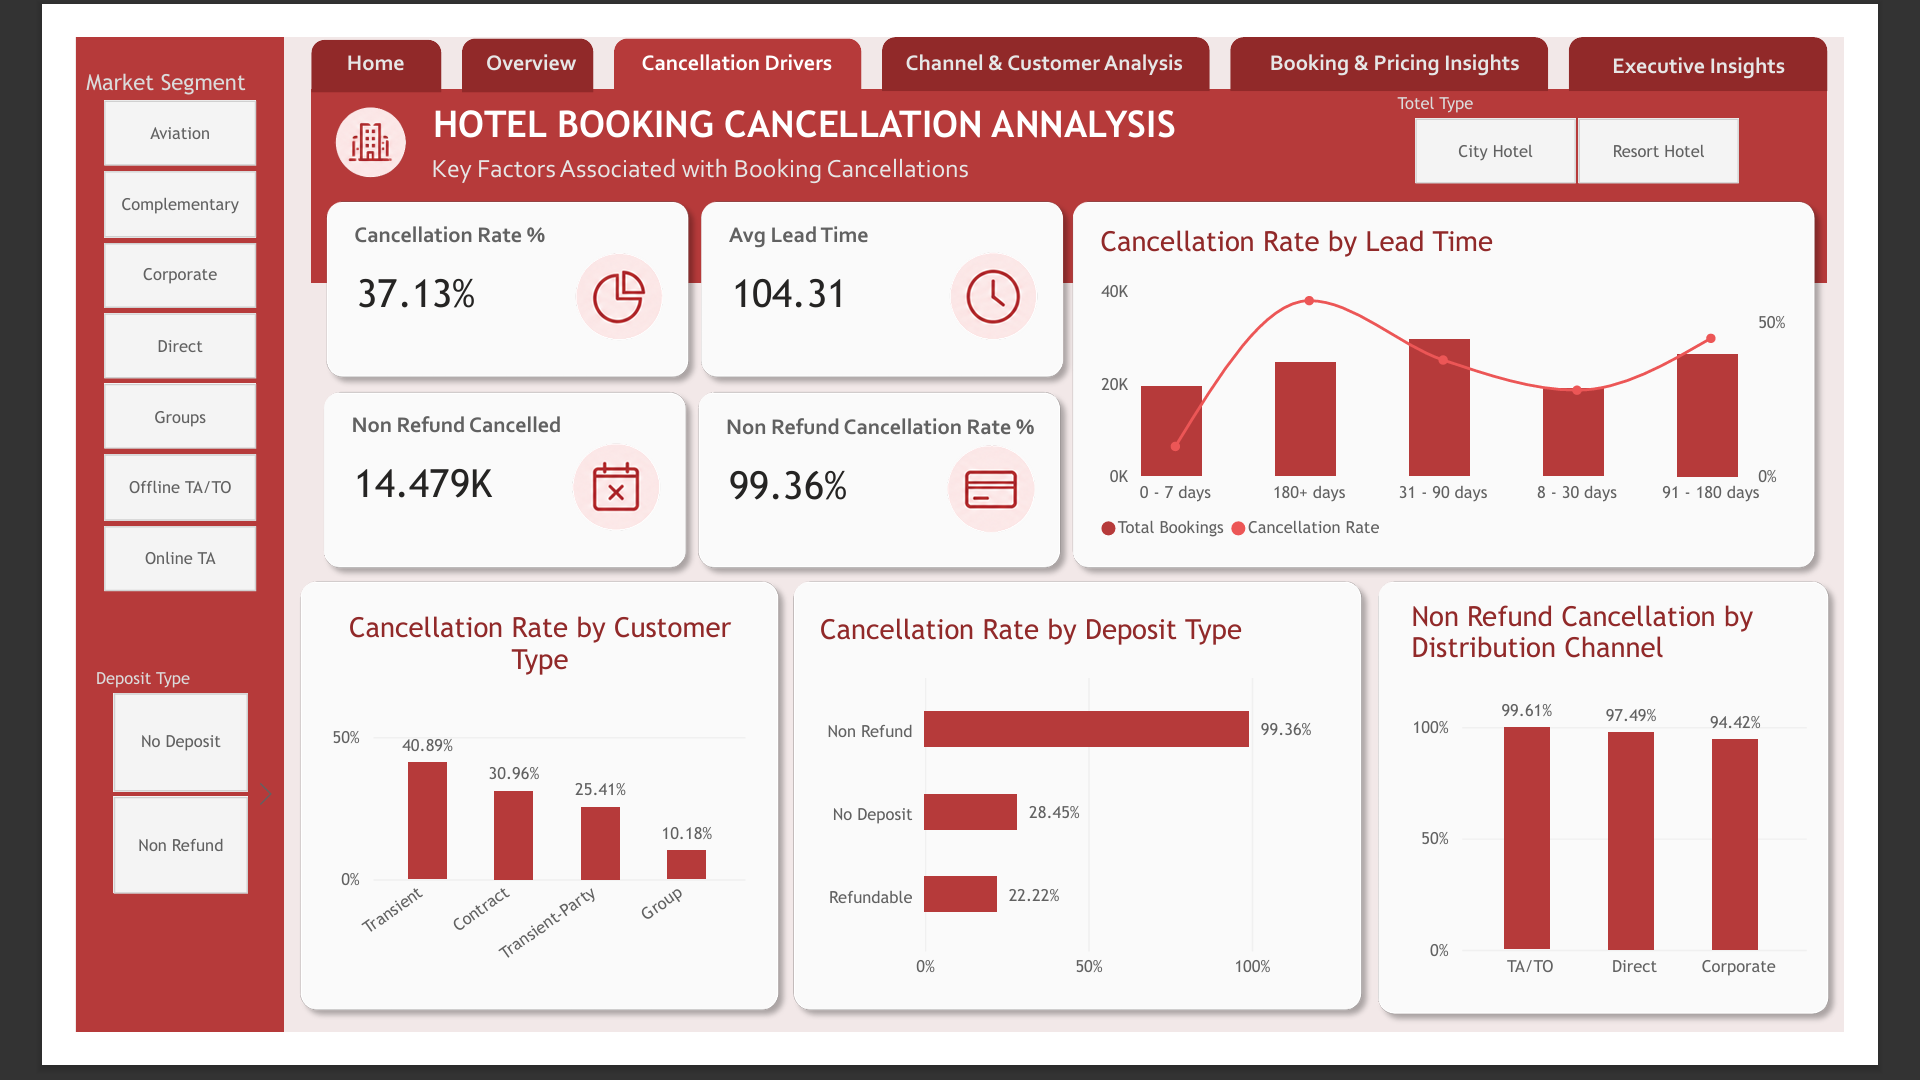

What the dashboard file says about the page in this screenshot:
{"tool":"powerbi","page":{"name":"Cancellation Drivers","canvas":[1280,720],"ordinal":2},"visuals":[{"type":"shape","box":[171.3,38.3,1096.7,140],"z":0,"group":"g4"},{"type":"textbox","box":[230.4,47.3,593.4,35.1],"z":0,"group":"g5"},{"type":"group","id":"g1","title":"Group 2","box":[154.4,385,364,328.2],"z":0},{"type":"shape","box":[390.2,0.7,178.6,39],"z":1000,"group":"g4"},{"type":"textbox","box":[257.8,83.6,529.6,25.3],"z":1000,"group":"g5"},{"type":"group","id":"g2","title":"Group 2","box":[511.1,385.2,429.3,328.2],"z":1000},{"type":"shape","box":[835.7,0,229.8,39],"z":2000,"group":"g4"},{"type":"group","id":"g3","title":"Group 2","box":[933.9,385.2,343.7,330.8],"z":2000},{"type":"shape","box":[1.2,0,150.3,720.8],"z":3000},{"type":"shape","box":[584.1,0,236.4,39],"z":3000,"group":"g4"},{"type":"shape","box":[280.2,0.6,94.8,39],"z":4000,"group":"g4"},{"type":"columnChart","title":"Non Refund Cancellation by Distribution Channel","fields":{"Category":["hotel_bookings.distribution_channel"],"Y":[" Measures.Non Refund Cancellation Rate"]},"box":[950.8,393,317.8,307.4],"z":4000},{"type":"shape","box":[1080.8,0.3,187.4,39],"z":5000,"group":"g4"},{"type":"clusteredColumnChart","title":"Cancellation Rate by Customer Type","fields":{"Y":[" Measures.Cancellation Rate"],"Category":["hotel_bookings.customer_type"]},"box":[168.6,399.5,333.4,302.2],"z":5000},{"type":"shape","box":[171.3,2.1,93.7,37.8],"z":6000,"group":"g4"},{"type":"barChart","title":"Cancellation Rate by Deposit Type","fields":{"Category":["hotel_bookings.deposit_type"],"Y":[" Measures.Cancellation Rate"]},"box":[522.7,403.4,402.1,297],"z":6000},{"type":"group","id":"g4","title":"Group 1","box":[168.9,0,1099.3,178.3],"z":7000},{"type":"group","id":"g5","title":"Group 3","box":[230.4,47.3,593.4,61.6],"z":7000,"group":"g4"},{"type":"group","id":"g6","title":"Group 5","box":[168.9,9,885.7,28],"z":8000,"group":"g4"},{"type":"slicer","fields":{"Values":["hotel_bookings.hotel"]},"box":[949.5,41,273.6,67.2],"z":8000},{"type":"textbox","box":[1105.1,10.6,139.3,25.3],"z":9000,"group":"g4"},{"type":"slicer","fields":{"Values":["hotel_bookings.market_segment"]},"box":[0,23.2,150.3,379.9],"z":9000},{"type":"group","id":"g7","title":"Group 2","box":[713.4,110,555.2,282.8],"z":10000},{"type":"lineClusteredColumnComboChart","title":"Cancellation Rate by Lead Time","fields":{"Category":["hotel_bookings.lead_time_groups"],"Y":[" Measures.Total Bookings"],"Y2":[" Measures.Cancellation Rate"]},"box":[726.4,121.9,527.9,263.3],"z":11000},{"type":"slicer","fields":{"Values":["hotel_bookings.deposit_type"]},"box":[7.3,456.9,136.8,164.9],"z":12000},{"type":"shape","box":[933.9,385.2,343.7,330.8],"z":12500,"group":"g3"},{"type":"group","id":"g8","title":"Group 2","box":[172.5,110,279.9,144.8],"z":13000},{"type":"group","id":"g9","title":"Group 2","box":[444,110,279.9,144.8],"z":14000},{"type":"shape","box":[154.4,385,364,328.2],"z":14000,"group":"g1"},{"type":"shape","box":[713.4,110,555.2,282.8],"z":14500,"group":"g7"},{"type":"shape","box":[172.5,110,279.9,144.8],"z":15000,"group":"g8"},{"type":"shape","box":[444,110,279.9,144.8],"z":15000,"group":"g9"},{"type":"group","id":"g10","title":"Group 2","box":[171.3,248,279.9,144.8],"z":15000},{"type":"shape","box":[171.3,248,279.9,144.8],"z":15000,"group":"g10"},{"type":"shape","box":[442.3,248,279.9,144.8],"z":15000,"group":"g11"},{"type":"shape","box":[511.1,385.2,429.3,328.2],"z":15000,"group":"g2"},{"type":"cardVisual","title":"Total Bookings","fields":{"Data":[" Measures.Cancellation Rate"]},"box":[187.9,152.2,253.4,65.1],"z":16000,"group":"g8"},{"type":"cardVisual","title":"Total Bookings","fields":{"Data":[" Measures.Avg Lead Time"]},"box":[459.4,152.2,253.4,65.1],"z":16000,"group":"g9"},{"type":"group","id":"g11","title":"Group 2","box":[442.3,248,279.9,144.8],"z":16000},{"type":"cardVisual","title":"Total Bookings","fields":{"Data":[" Measures.Non Refund Cancelled"]},"box":[186.7,290.2,253.4,65.1],"z":16000,"group":"g10"},{"type":"cardVisual","title":"Total Bookings","fields":{"Data":[" Measures.Non Refund Cancellation Rate"]},"box":[457.7,291.3,253.4,65.1],"z":16000,"group":"g11"},{"type":"image","box":[188.2,44.6,51.9,61.5],"z":16001},{"type":"textbox","box":[201.5,132.9,228,20.5],"z":17000,"group":"g8"},{"type":"textbox","box":[473,132.9,228,20.5],"z":17000,"group":"g9"},{"type":"textbox","box":[200.3,270.9,228,20.5],"z":17000,"group":"g10"},{"type":"textbox","box":[471.3,272,228,20.5],"z":17000,"group":"g11"},{"type":"image","box":[359.7,155.1,66.4,65],"z":18000,"group":"g8"},{"type":"image","box":[631.2,155.1,66.4,65],"z":18000,"group":"g9"},{"type":"image","box":[358.5,293.1,66.4,65],"z":18000,"group":"g10"},{"type":"image","box":[629.5,294.2,66.4,65],"z":18000,"group":"g11"},{"type":"textbox","box":[168.9,9.1,96.9,27.8],"z":19000,"group":"g6"},{"type":"textbox","box":[282.2,9.1,95.9,26.7],"z":20000,"group":"g6"},{"type":"textbox","box":[394.5,9.1,168.8,27.8],"z":21000,"group":"g6"},{"type":"textbox","box":[591.7,9,222.2,25.6],"z":22000,"group":"g6"},{"type":"textbox","box":[855.3,9,199.3,23.4],"z":23000,"group":"g6"}]}

Visuals, with their boxes in screenshot pixels (x1, y1, x2, y2), scaled from the page's 1280x720 canvas onto the 1920x1080 screenshot:
shape: [x1=257, y1=57, x2=1902, y2=267]
textbox: [x1=346, y1=71, x2=1236, y2=124]
"Group 2" group: [x1=232, y1=578, x2=778, y2=1070]
shape: [x1=585, y1=1, x2=853, y2=60]
textbox: [x1=387, y1=125, x2=1181, y2=163]
"Group 2" group: [x1=767, y1=578, x2=1411, y2=1070]
shape: [x1=1254, y1=0, x2=1598, y2=58]
"Group 2" group: [x1=1401, y1=578, x2=1916, y2=1074]
shape: [x1=2, y1=0, x2=227, y2=1079]
shape: [x1=876, y1=0, x2=1231, y2=58]
shape: [x1=420, y1=1, x2=562, y2=59]
"Non Refund Cancellation by Distribution Channel" columnChart: [x1=1426, y1=590, x2=1903, y2=1051]
shape: [x1=1621, y1=0, x2=1902, y2=59]
"Cancellation Rate by Customer Type" clusteredColumnChart: [x1=253, y1=599, x2=753, y2=1053]
shape: [x1=257, y1=3, x2=398, y2=60]
"Cancellation Rate by Deposit Type" barChart: [x1=784, y1=605, x2=1387, y2=1051]
"Group 1" group: [x1=253, y1=0, x2=1902, y2=267]
"Group 3" group: [x1=346, y1=71, x2=1236, y2=163]
"Group 5" group: [x1=253, y1=14, x2=1582, y2=56]
slicer - hotel_bookings.hotel: [x1=1424, y1=62, x2=1835, y2=162]
textbox: [x1=1658, y1=16, x2=1867, y2=54]
slicer - hotel_bookings.market_segment: [x1=0, y1=35, x2=225, y2=605]
"Group 2" group: [x1=1070, y1=165, x2=1903, y2=589]
"Cancellation Rate by Lead Time" lineClusteredColumnComboChart: [x1=1090, y1=183, x2=1881, y2=578]
slicer - hotel_bookings.deposit_type: [x1=11, y1=685, x2=216, y2=933]
shape: [x1=1401, y1=578, x2=1916, y2=1074]
"Group 2" group: [x1=259, y1=165, x2=679, y2=382]
"Group 2" group: [x1=666, y1=165, x2=1086, y2=382]
shape: [x1=232, y1=578, x2=778, y2=1070]
shape: [x1=1070, y1=165, x2=1903, y2=589]
shape: [x1=259, y1=165, x2=679, y2=382]
shape: [x1=666, y1=165, x2=1086, y2=382]
"Group 2" group: [x1=257, y1=372, x2=677, y2=589]
shape: [x1=257, y1=372, x2=677, y2=589]
shape: [x1=663, y1=372, x2=1083, y2=589]
shape: [x1=767, y1=578, x2=1411, y2=1070]
"Total Bookings" cardVisual: [x1=282, y1=228, x2=662, y2=326]
"Total Bookings" cardVisual: [x1=689, y1=228, x2=1069, y2=326]
"Group 2" group: [x1=663, y1=372, x2=1083, y2=589]
"Total Bookings" cardVisual: [x1=280, y1=435, x2=660, y2=533]
"Total Bookings" cardVisual: [x1=687, y1=437, x2=1067, y2=535]
image: [x1=282, y1=67, x2=360, y2=159]
textbox: [x1=302, y1=199, x2=644, y2=230]
textbox: [x1=710, y1=199, x2=1052, y2=230]
textbox: [x1=300, y1=406, x2=642, y2=437]
textbox: [x1=707, y1=408, x2=1049, y2=439]
image: [x1=540, y1=233, x2=639, y2=330]
image: [x1=947, y1=233, x2=1046, y2=330]
image: [x1=538, y1=440, x2=637, y2=537]
image: [x1=944, y1=441, x2=1044, y2=539]
textbox: [x1=253, y1=14, x2=399, y2=55]
textbox: [x1=423, y1=14, x2=567, y2=54]
textbox: [x1=592, y1=14, x2=845, y2=55]
textbox: [x1=888, y1=14, x2=1221, y2=52]
textbox: [x1=1283, y1=14, x2=1582, y2=49]
